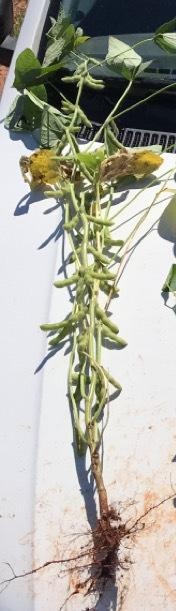soja: (101, 127, 134, 157), (97, 324, 133, 350), (41, 311, 73, 338), (97, 309, 128, 336), (48, 327, 80, 349), (100, 366, 124, 395), (84, 209, 113, 231), (83, 267, 118, 284), (74, 160, 97, 183), (74, 106, 96, 130), (49, 136, 74, 157), (67, 305, 90, 326), (88, 245, 111, 265), (101, 282, 122, 302), (55, 274, 80, 290), (39, 186, 69, 199), (79, 80, 106, 94), (102, 237, 127, 251), (74, 335, 92, 354), (108, 117, 125, 136), (83, 72, 106, 85), (63, 216, 80, 232), (87, 55, 109, 67), (63, 72, 83, 85), (70, 247, 82, 264), (57, 97, 73, 109), (66, 372, 79, 386), (59, 106, 71, 115)
